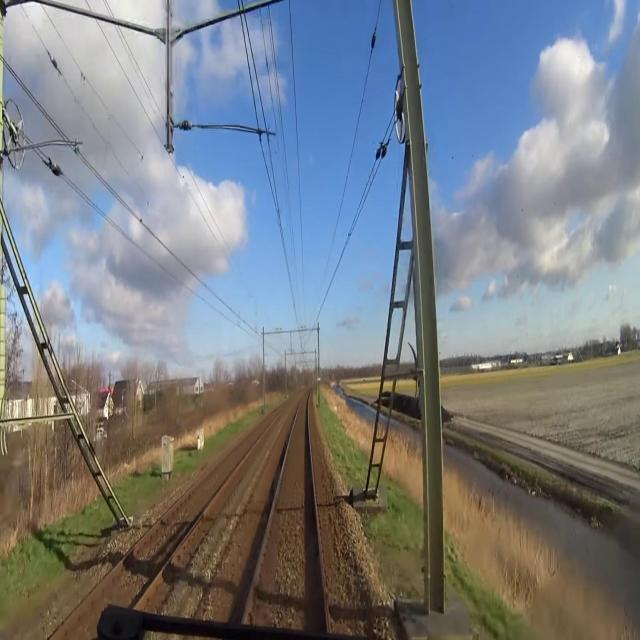rail-track: (54, 427, 264, 639), (246, 395, 325, 630)
